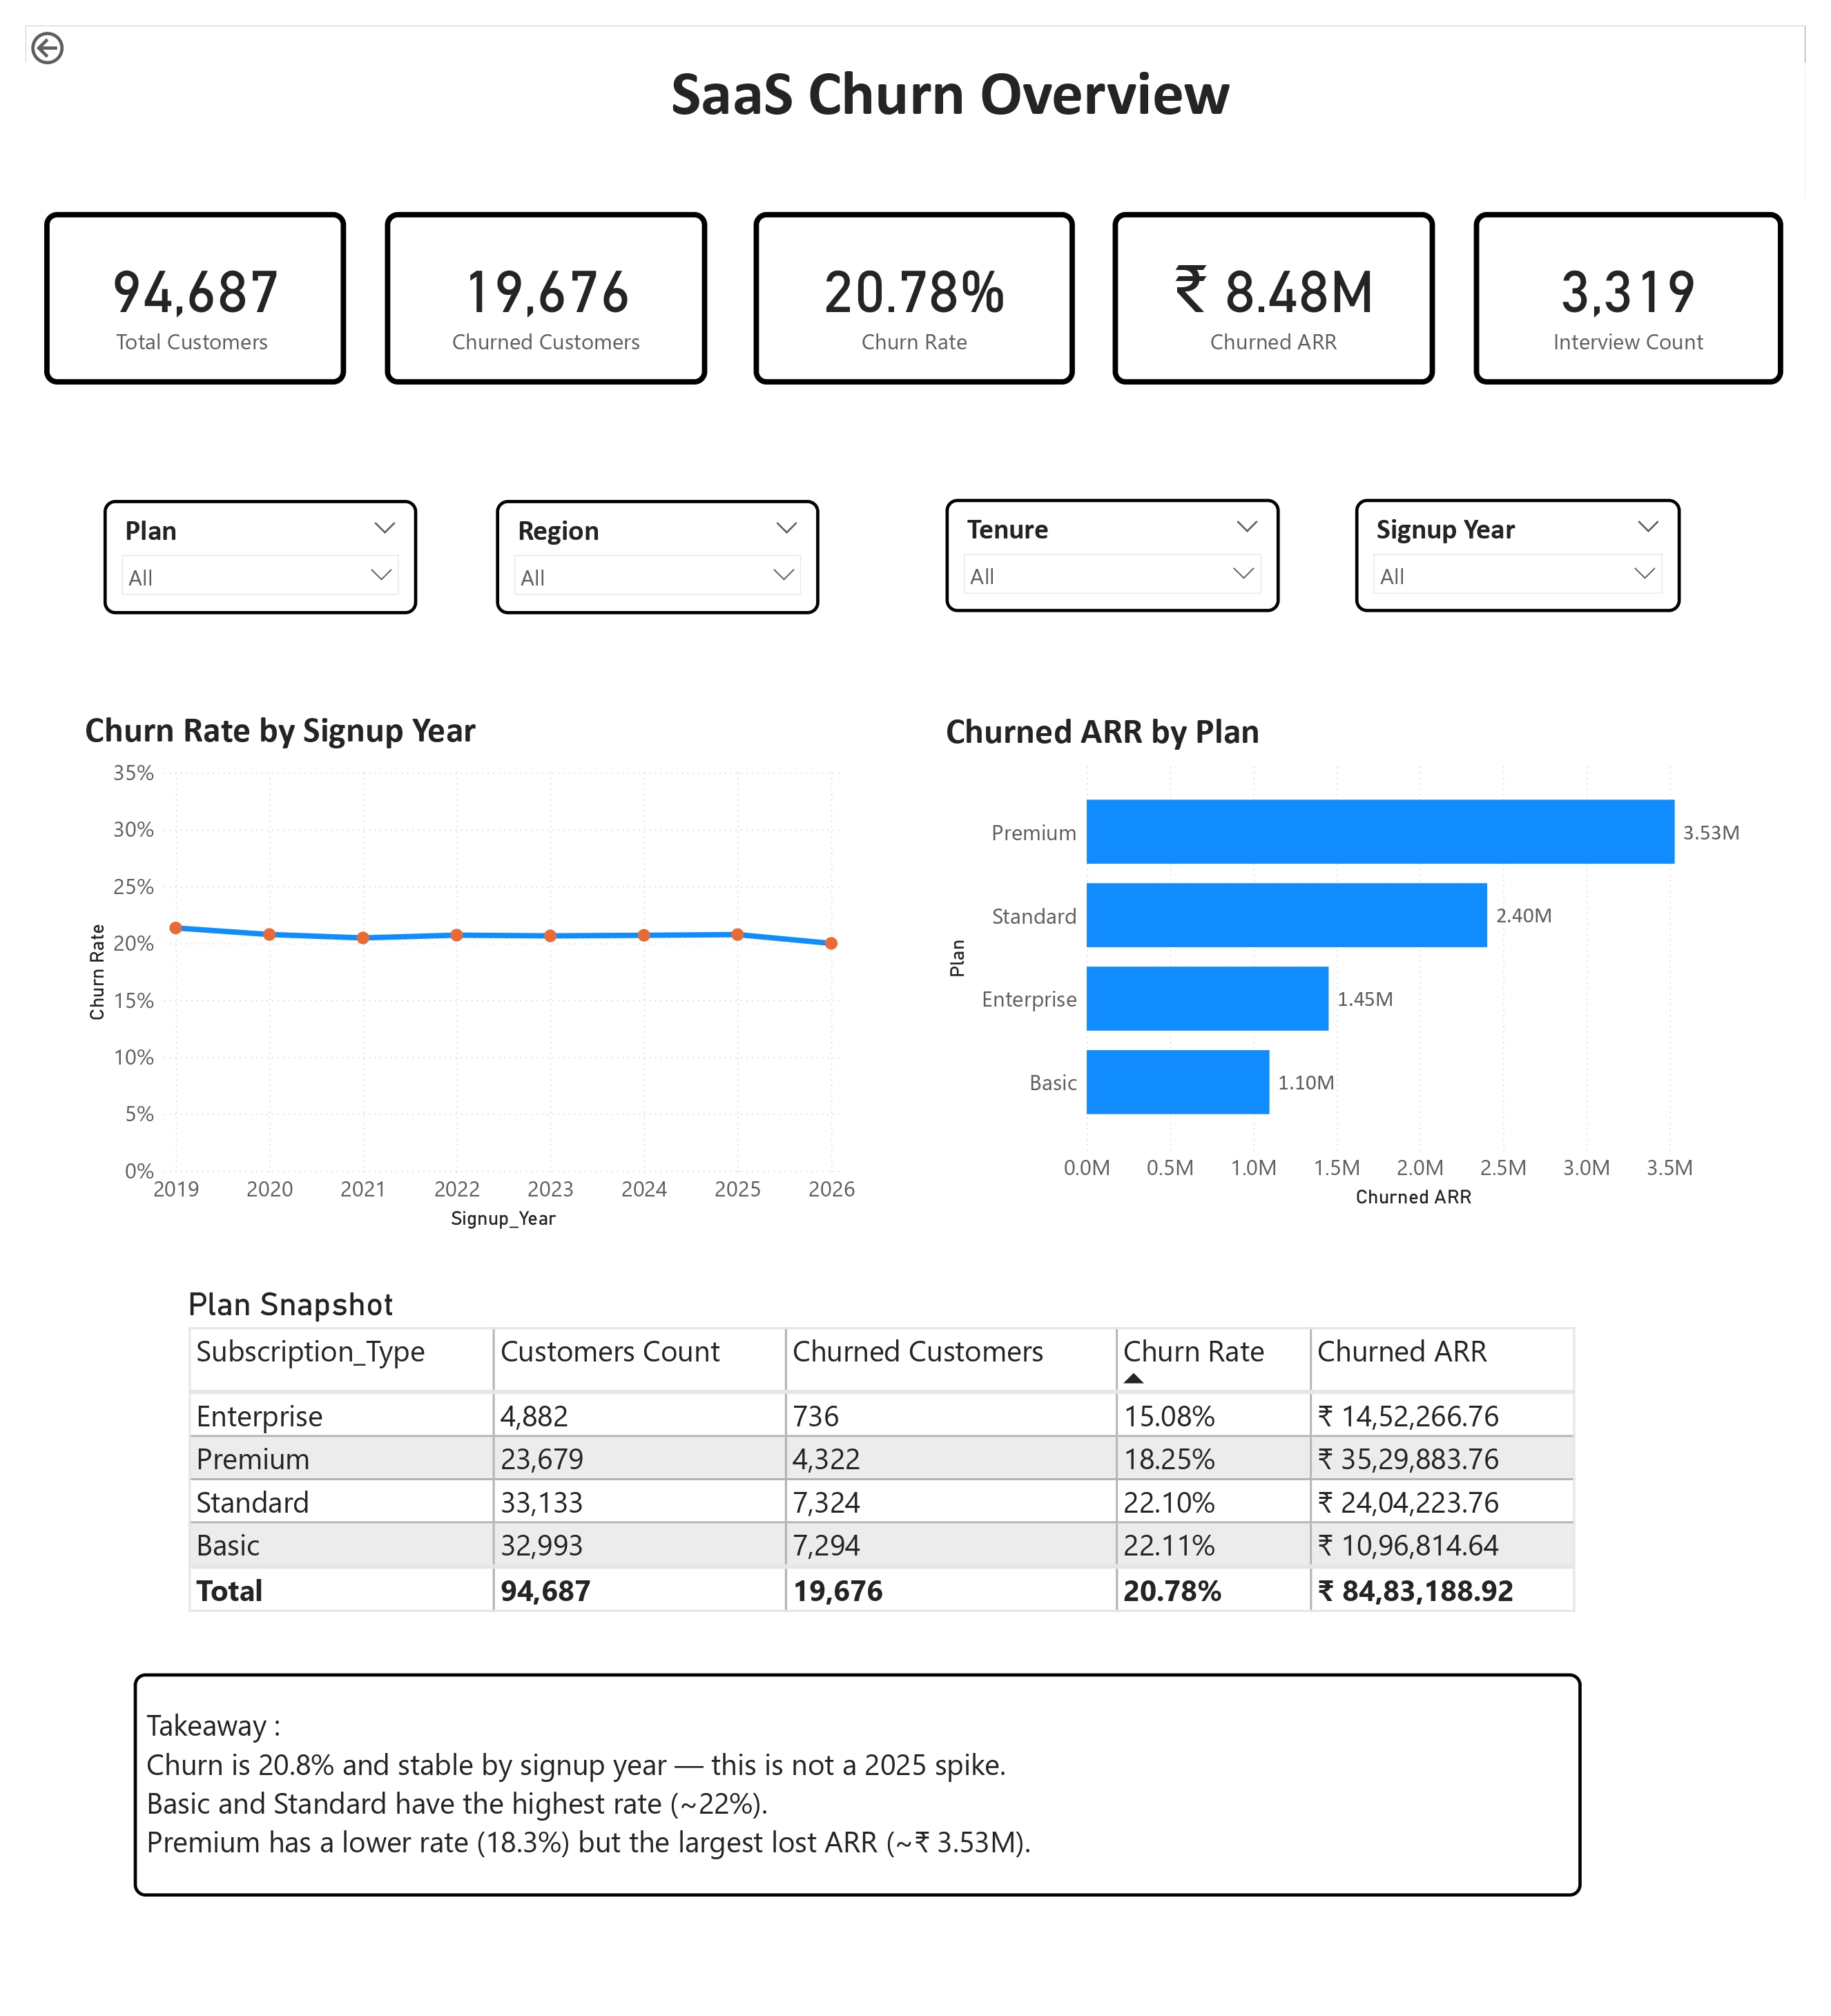

Layout of this report page (visuals, bound fields, positions):
{"tool":"powerbi","page":{"name":"Page 1","canvas":[1650,1820],"ordinal":0},"visuals":[{"type":"textbox","box":[483.3,20,710,93.3],"z":0},{"type":"card","fields":{"Values":["customers.Customers Count"]},"box":[16.7,171.7,280,160],"z":1000},{"type":"card","fields":{"Values":["customers.Churned Customers"]},"box":[333.3,171.7,298.3,160],"z":2000},{"type":"card","fields":{"Values":["customers.Churn Rate"]},"box":[675,171.7,298.3,160],"z":3000},{"type":"card","fields":{"Values":["customers.Churned ARR"]},"box":[1008.3,171.7,298.3,160],"z":4000},{"type":"card","fields":{"Values":["interviews_classified.Interview Count"]},"box":[1343.3,171.7,286.7,160],"z":5000},{"type":"slicer","fields":{"Values":["customers.Subscription_Type"]},"box":[72.4,439.5,290.8,105.3],"z":6000},{"type":"slicer","title":"Region","fields":{"Values":["customers.Region"]},"box":[435.5,439.5,300,105.3],"z":7000},{"type":"slicer","fields":{"Values":["customers.Tenure_Group"]},"box":[853.3,438.3,310,105],"z":8000},{"type":"slicer","fields":{"Values":["customers.Signup_Year"]},"box":[1233.3,438.3,301.7,105],"z":9000},{"type":"lineChart","title":"Churn Rate by Signup Year","fields":{"Category":["customers.Signup_Year"],"Y":["customers.Churn Rate"]},"box":[50,631.4,724.3,488.6],"z":10000},{"type":"barChart","title":"Churned ARR by Plan","fields":{"Category":["customers.Subscription_Type"],"Y":["customers.Churned ARR"]},"box":[848.3,631.7,770,468.3],"z":11000},{"type":"actionButton","box":[0,0,100,40],"z":12000},{"type":"textbox","box":[100,1526.9,1343.3,207.5],"z":13000},{"type":"tableEx","title":"Plan Snapshot","fields":{"Values":["customers.Subscription_Type","customers.Customers Count","customers.Churned Customers","customers.Churn Rate","customers.Churned ARR"]},"box":[145,1166.7,1298.3,316.7],"z":14000}]}

Visuals, with their boxes in screenshot pixels (x1, y1, x2, y2), scaled from the page's 1650x1820 canvas onto the 1831x2016 screenshot:
textbox: pyautogui.locateOnScreen(536, 22, 1324, 126)
card - customers.Customers Count: pyautogui.locateOnScreen(19, 190, 329, 367)
card - customers.Churned Customers: pyautogui.locateOnScreen(370, 190, 701, 367)
card - customers.Churn Rate: pyautogui.locateOnScreen(749, 190, 1080, 367)
card - customers.Churned ARR: pyautogui.locateOnScreen(1119, 190, 1450, 367)
card - interviews_classified.Interview Count: pyautogui.locateOnScreen(1491, 190, 1809, 367)
slicer - customers.Subscription_Type: pyautogui.locateOnScreen(80, 487, 403, 603)
"Region" slicer: pyautogui.locateOnScreen(483, 487, 816, 603)
slicer - customers.Tenure_Group: pyautogui.locateOnScreen(947, 485, 1291, 602)
slicer - customers.Signup_Year: pyautogui.locateOnScreen(1368, 485, 1703, 602)
"Churn Rate by Signup Year" lineChart: pyautogui.locateOnScreen(55, 699, 860, 1241)
"Churned ARR by Plan" barChart: pyautogui.locateOnScreen(941, 699, 1796, 1219)
actionButton: pyautogui.locateOnScreen(0, 0, 111, 44)
textbox: pyautogui.locateOnScreen(111, 1692, 1602, 1921)
"Plan Snapshot" tableEx: pyautogui.locateOnScreen(161, 1292, 1602, 1643)
